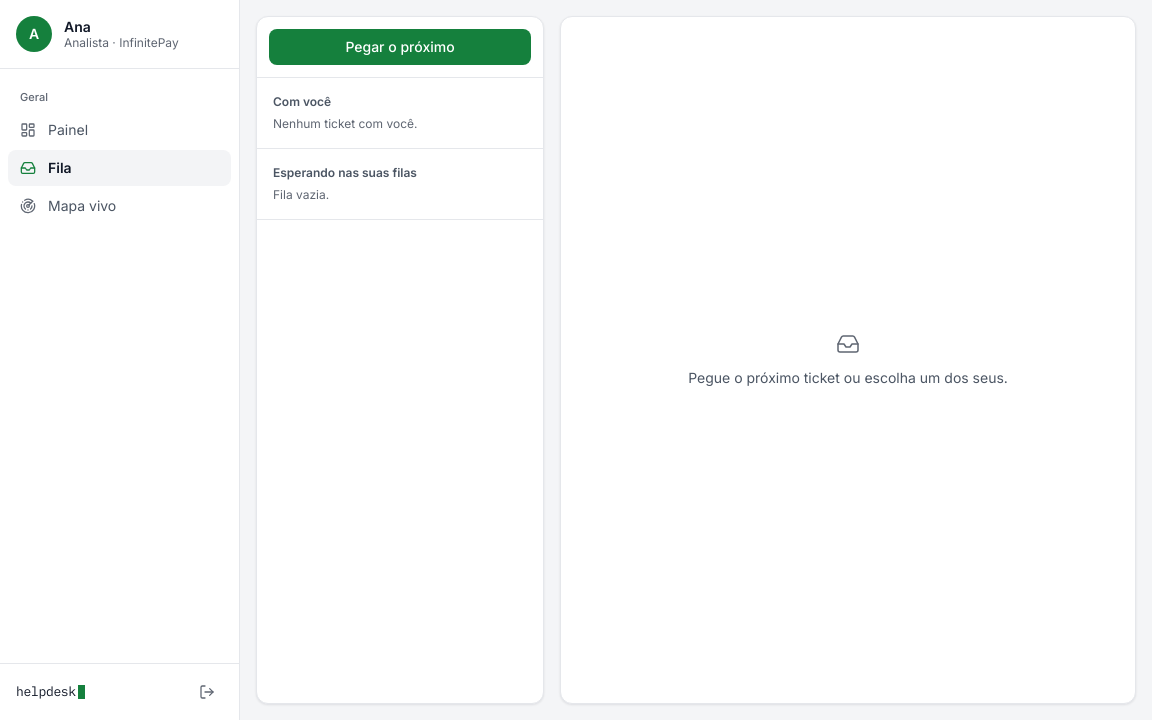
Test: entrada na plataforma › volta com a sessão guardada e sai limpando tudo
Check: the text "Ana" is shown, box [64, 18, 91, 35]
What coordinates should you click on to do the following:
click the button named "Sair"
I would click on:
 (207, 692)
Its box is [191, 676, 223, 708].
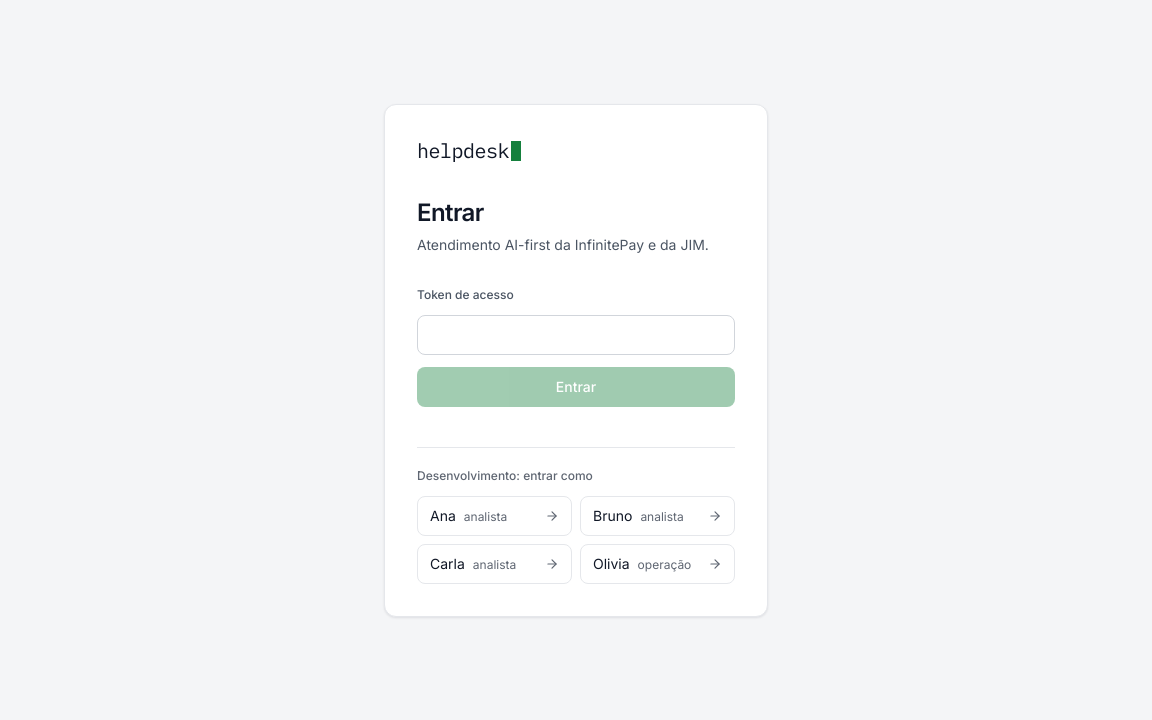
Check: the password field labelled "Token de acesso" is shown, box [417, 314, 735, 354]
